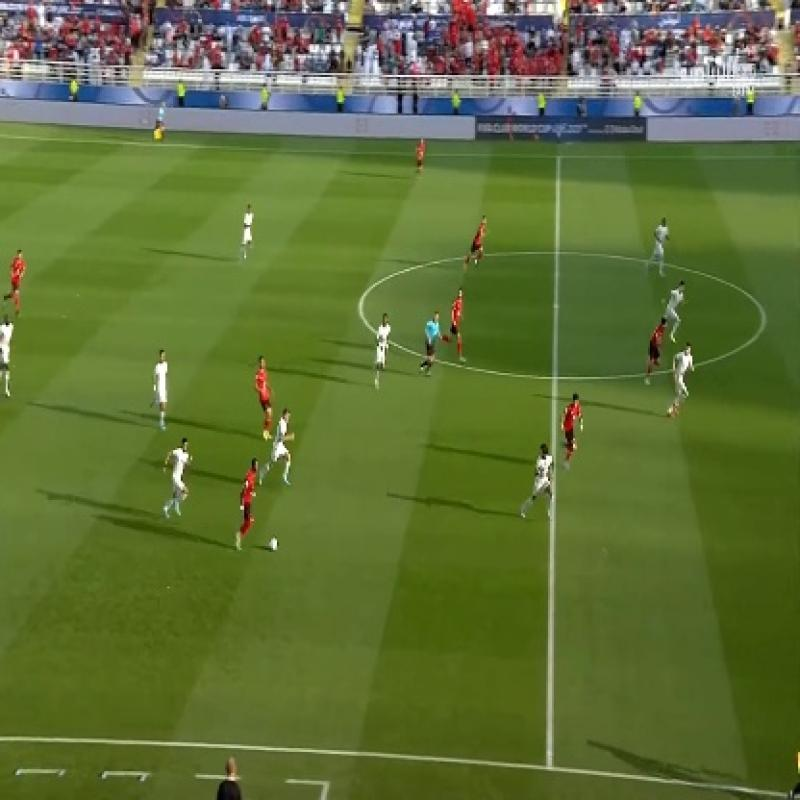13: (550, 144, 568, 168)
14: (544, 237, 571, 268)
15: (540, 356, 568, 396)
16: (528, 740, 570, 786)
c: (340, 287, 381, 322), (751, 302, 778, 336)
